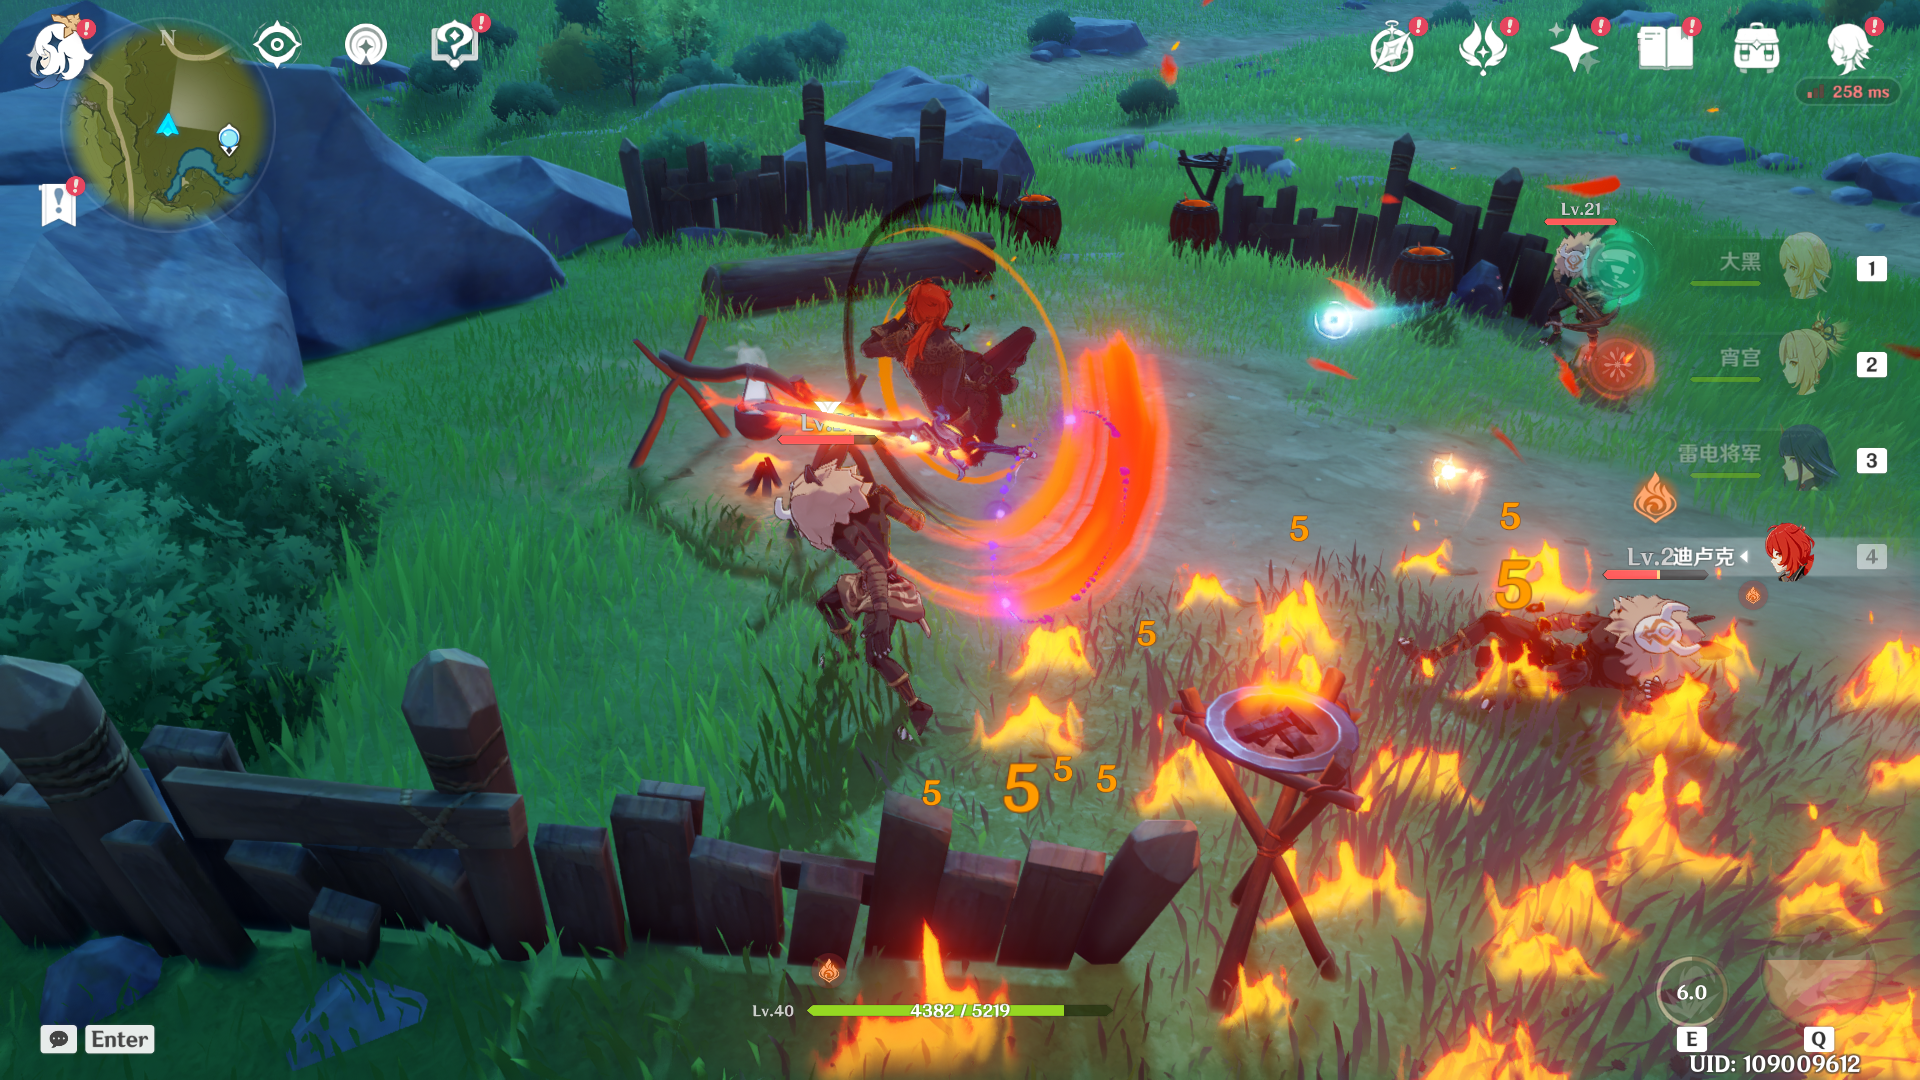character: (833, 248, 1088, 483)
hili: (731, 438, 973, 735), (1389, 542, 1731, 752), (1518, 220, 1654, 389)
